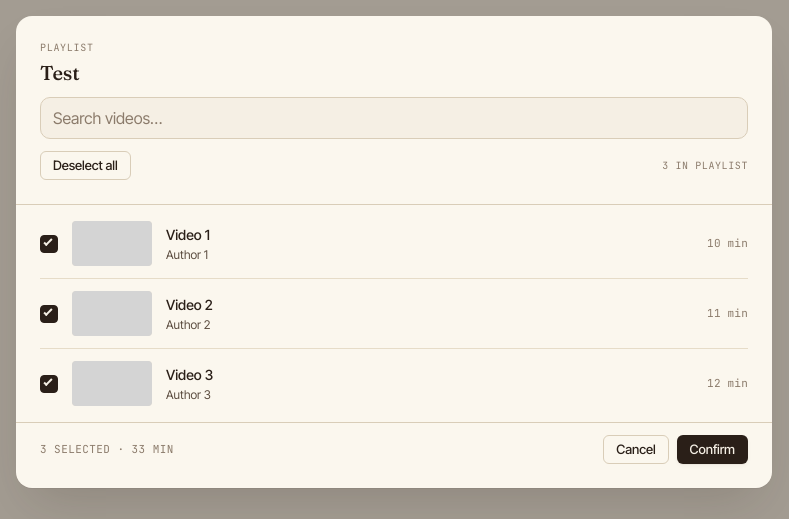
Test: PlaylistPickerPopup › updates summary when toggling selections
This screenshot has width=789, height=519.
expect the text "3 selected · 33 min" is shown: met, box [40,441,174,458]
Click the text "Video 1" at (394, 244), box [40,209,748,279]
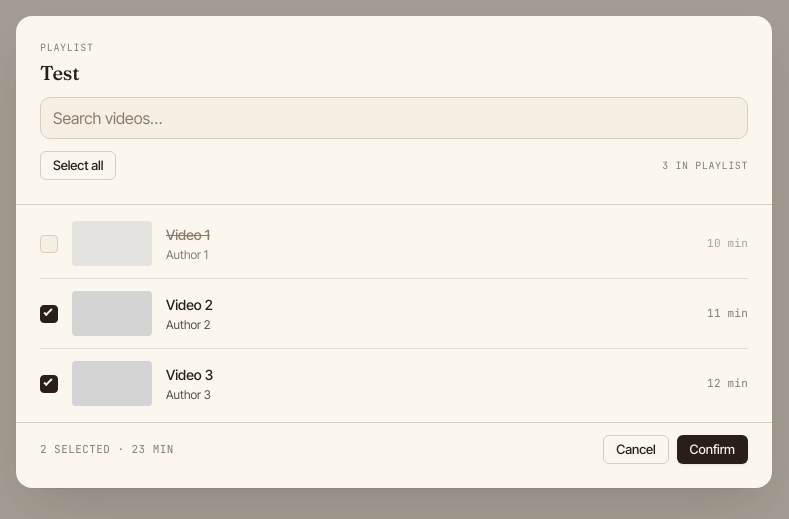
expect the text "2 selected · 23 min" is shown: met, box [40,441,174,458]
